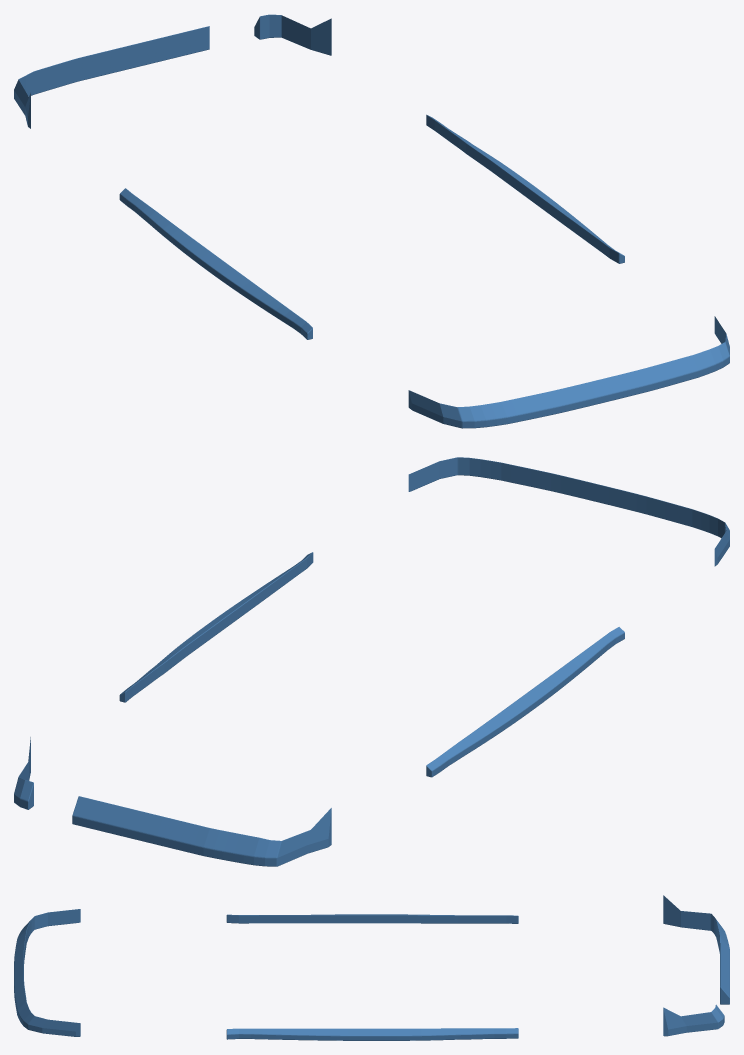
File: levin_ae92-kit2.glb
3 renders of one model, top to bottom at view 1: azimuth 30°, elevation 25°; view 2: azimuth 150°, elevation 25°; view 3: azimuth 270°, elevation 25°, orthographic. The views are drawn at different scales.
Visible parts, largest first — view 1: FRONT_VALANCE_2_0, REAR_VALANCE_2_0, SKIRT_L_2, SKIRT_R_2, REAR_VALANCE_2_1; view 2: REAR_VALANCE_2_0, FRONT_VALANCE_2_0, SKIRT_L_2, SKIRT_R_2, REAR_VALANCE_2_1; view 3: SKIRT_R_2, SKIRT_L_2, FRONT_VALANCE_2_0, REAR_VALANCE_2_0, REAR_VALANCE_2_1.
Part boxes in pixels (x1,y1,x2,y2): FRONT_VALANCE_2_0: (408, 316, 729, 428); REAR_VALANCE_2_0: (14, 26, 209, 128); SKIRT_L_2: (119, 188, 312, 339); SKIRT_R_2: (426, 114, 624, 263); REAR_VALANCE_2_1: (254, 14, 331, 55); REAR_VALANCE_2_0: (72, 796, 331, 866); FRONT_VALANCE_2_0: (408, 457, 729, 566); SKIRT_L_2: (426, 627, 624, 777); SKIRT_R_2: (119, 552, 313, 702); REAR_VALANCE_2_1: (14, 737, 33, 809); SKIRT_R_2: (226, 1028, 518, 1040); SKIRT_L_2: (226, 914, 518, 923); FRONT_VALANCE_2_0: (14, 909, 80, 1036); REAR_VALANCE_2_0: (663, 895, 729, 1004); REAR_VALANCE_2_1: (663, 1004, 724, 1036).
Size of the model in its own units: 1.66 by 0.1851 by 4.12.
